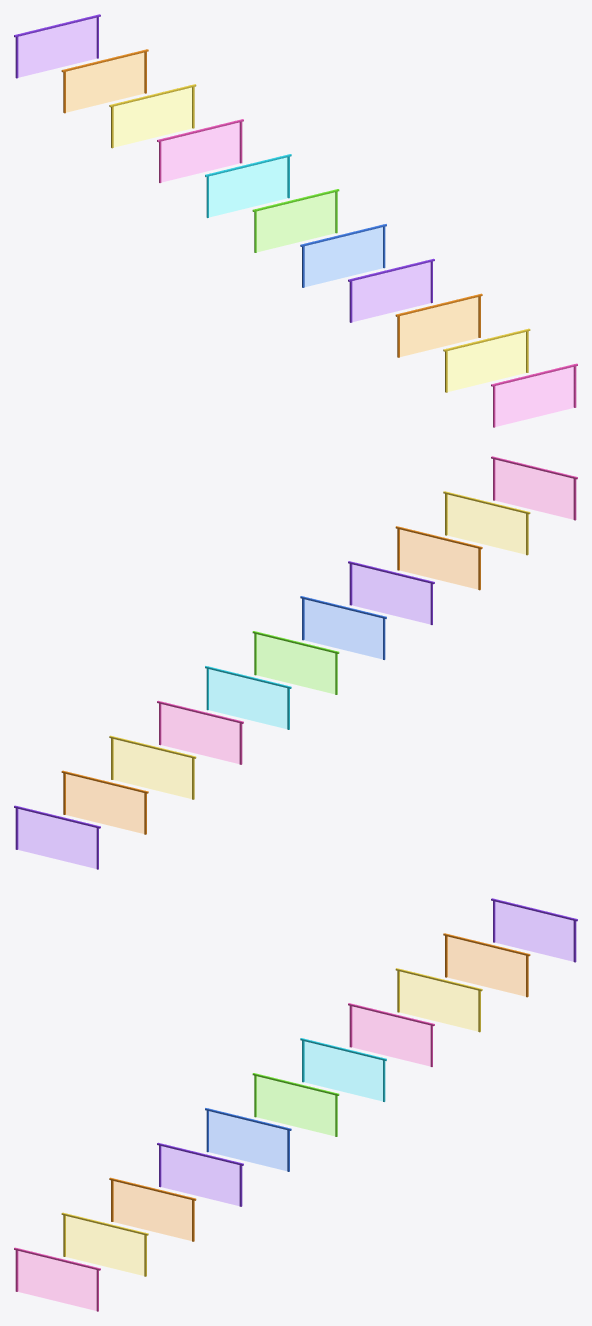
Rendered from Stage_Frames.fbx.
3 renders of one model, top to bottom at view 1: azimuth 30°, elevation 25°; view 2: azimuth 150°, elevation 25°; view 3: azimuth 330°, elevation 25°, orthographic.
Visible parts, largest first — view 1: Stage05_Pane, Stage10_Pane, Stage04_Pane, Stage06_Pane, Stage07_Pane, Stage12_Pane, Stage13_Pane, Stage09_Pane, Stage11_Pane, Stage14_Pane, Stage08_Pane, Stage14_Gate (+10 smaller); view 2: Stage08_Pane, Stage13_Pane, Stage05_Pane, Stage06_Pane, Stage11_Pane, Stage12_Pane, Stage14_Pane, Stage04_Pane, Stage07_Pane, Stage09_Pane, Stage10_Pane, Stage04_Gate (+10 smaller); view 3: Stage05_Pane, Stage10_Pane, Stage04_Pane, Stage06_Pane, Stage07_Pane, Stage12_Pane, Stage13_Pane, Stage09_Pane, Stage11_Pane, Stage14_Pane, Stage08_Pane, Stage14_Gate (+10 smaller).
Boxes of the visible parts, box(x1,y1,x2,y2) form: Stage05_Pane: box(448, 332, 526, 391); Stage10_Pane: box(209, 157, 287, 216); Stage04_Pane: box(495, 367, 573, 426); Stage06_Pane: box(400, 297, 478, 356); Stage07_Pane: box(352, 262, 430, 321); Stage12_Pane: box(114, 88, 192, 147); Stage13_Pane: box(66, 53, 144, 112); Stage09_Pane: box(257, 192, 335, 251); Stage11_Pane: box(161, 122, 239, 181); Stage14_Pane: box(18, 18, 96, 77); Stage08_Pane: box(305, 227, 382, 286); Stage14_Gate: box(14, 14, 100, 78); Stage08_Pane: box(304, 599, 382, 658); Stage13_Pane: box(65, 774, 143, 833); Stage05_Pane: box(447, 495, 525, 554); Stage06_Pane: box(399, 530, 477, 589); Stage11_Pane: box(161, 704, 239, 763); Stage12_Pane: box(113, 739, 191, 798); Stage14_Pane: box(18, 809, 96, 868); Stage04_Pane: box(495, 460, 573, 519); Stage07_Pane: box(352, 564, 430, 623); Stage09_Pane: box(256, 634, 334, 693); Stage10_Pane: box(209, 669, 286, 728); Stage04_Gate: box(491, 456, 577, 520); Stage05_Pane: box(65, 1216, 143, 1275); Stage10_Pane: box(304, 1041, 382, 1100); Stage04_Pane: box(18, 1251, 96, 1310); Stage06_Pane: box(113, 1181, 191, 1240); Stage07_Pane: box(161, 1146, 239, 1205); Stage12_Pane: box(399, 972, 477, 1031); Stage13_Pane: box(447, 937, 525, 996); Stage09_Pane: box(256, 1076, 334, 1135); Stage11_Pane: box(352, 1006, 430, 1065); Stage14_Pane: box(495, 902, 573, 961); Stage08_Pane: box(209, 1111, 286, 1170); Stage14_Gate: box(491, 898, 577, 962).
Bounding box in the file's own units: 50 × 24 × 481.
